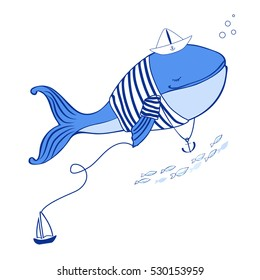fish: (26, 44, 229, 167)
